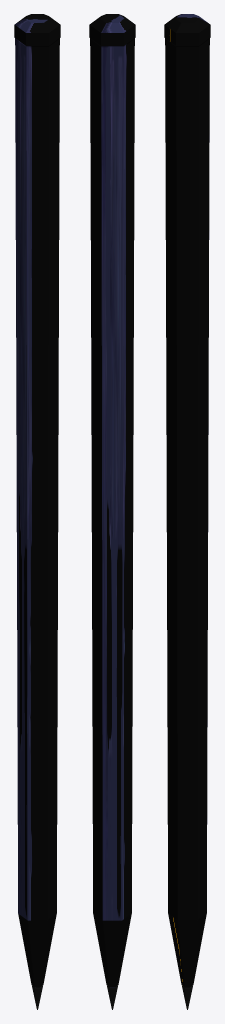
The model's file is obj_Pencil.obj.
3 renders of one model, left to right at view 1: azimuth 90°, elevation 25°; view 2: azimuth 150°, elevation 25°; view 3: azimuth 270°, elevation 25°, orthographic.
Parts seen in each view (by area): view 1: obj_Pencil; view 2: obj_Pencil; view 3: obj_Pencil.
Part boxes in pixels (left/top/right/bottom): obj_Pencil: left=14, top=14, right=60, bottom=1009; obj_Pencil: left=89, top=14, right=135, bottom=1009; obj_Pencil: left=164, top=14, right=210, bottom=1009.
Bounding box in the file's own units: 0.00919 × 0.2511 × 0.0106.
